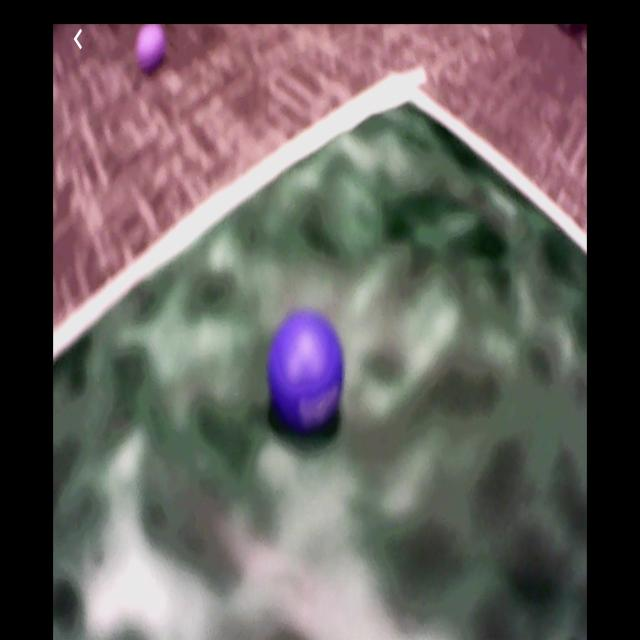ball: (268, 309, 345, 430), (136, 24, 165, 71)
